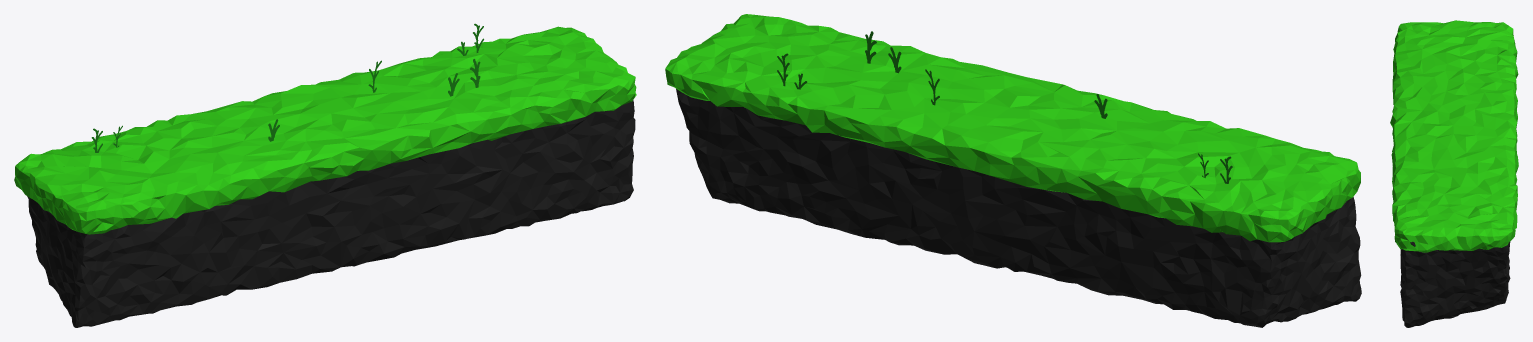
Rendered from ground.obj.
3 views of the same model, side by side, from view 1: azimuth 30°, elevation 25°; view 2: azimuth 150°, elevation 25°; view 3: azimuth 270°, elevation 25° (orthographic). The views are drawn at different scales.
Visible parts, largest first — view 1: Cube.001, Cube; view 2: Cube.001, Cube; view 3: Cube.001, Cube.
Boxes of the visible parts, x1,y1,x2,y2 form: Cube.001: [14, 26, 636, 234]; Cube: [27, 100, 635, 327]; Cube.001: [665, 14, 1360, 242]; Cube: [676, 89, 1361, 327]; Cube.001: [1390, 20, 1518, 252]; Cube: [1400, 241, 1510, 327].
Bounding box in the file's own units: 9.54 × 2.66 × 2.4.
